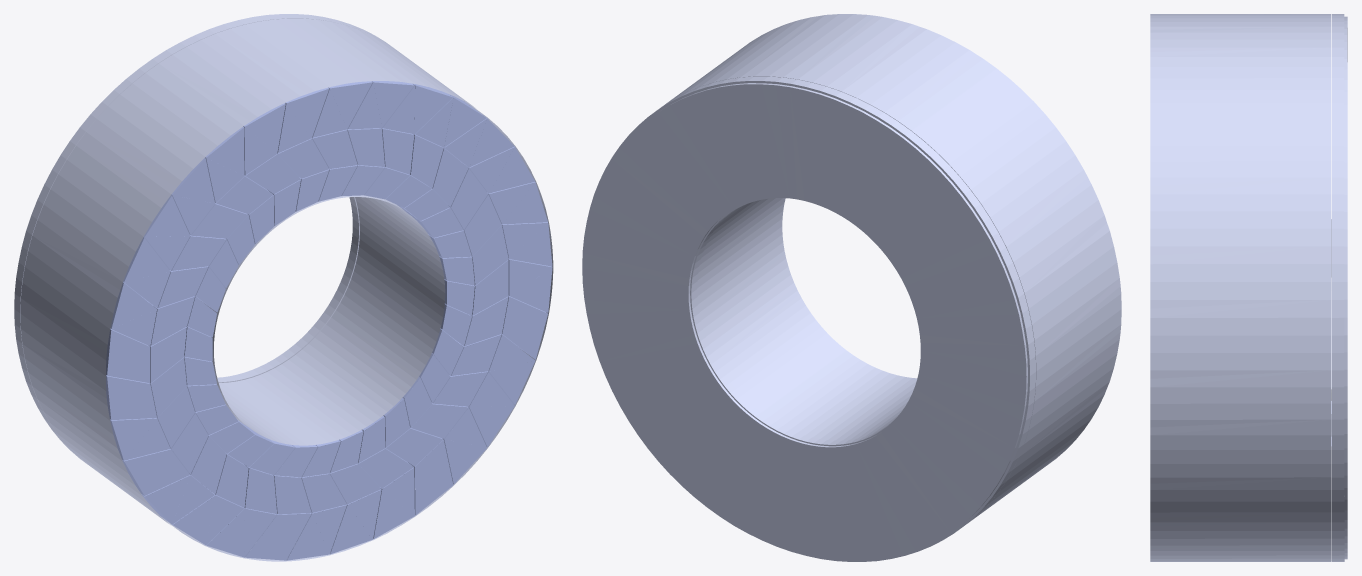
File: TRT-BAR-cut1.glb
3 views of the same model, side by side, from view 1: azimuth 30°, elevation 25°; view 2: azimuth 150°, elevation 25°; view 3: azimuth 270°, elevation 25° (orthographic). The views are drawn at different scales.
Parts seen in each view (by area): view 1: null; view 2: null; view 3: null.
Part boxes in pixels (<box>): null: <box>14,14,553,561</box>; null: <box>582,14,1121,561</box>; null: <box>1150,14,1347,561</box>.
Bounding box in the file's own units: 2.16 × 2.16 × 0.7791.
